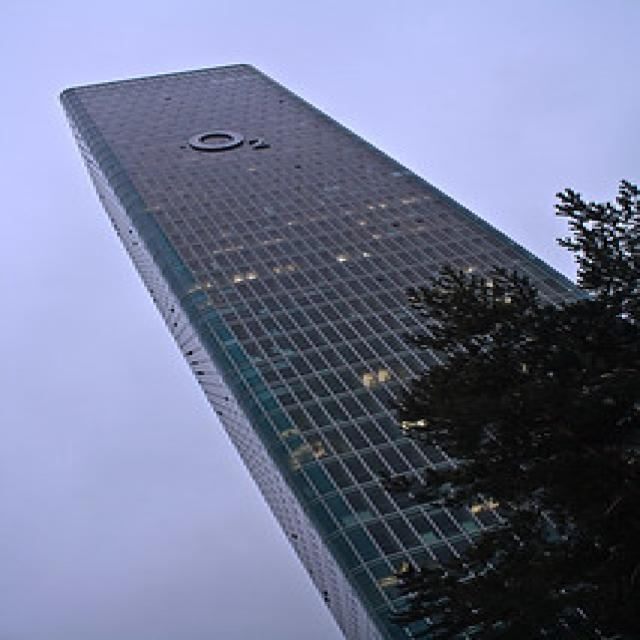Normal_building: (48, 58, 640, 640)
